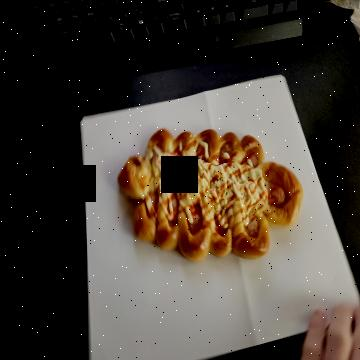pizza_bread: (117, 129, 304, 260)
